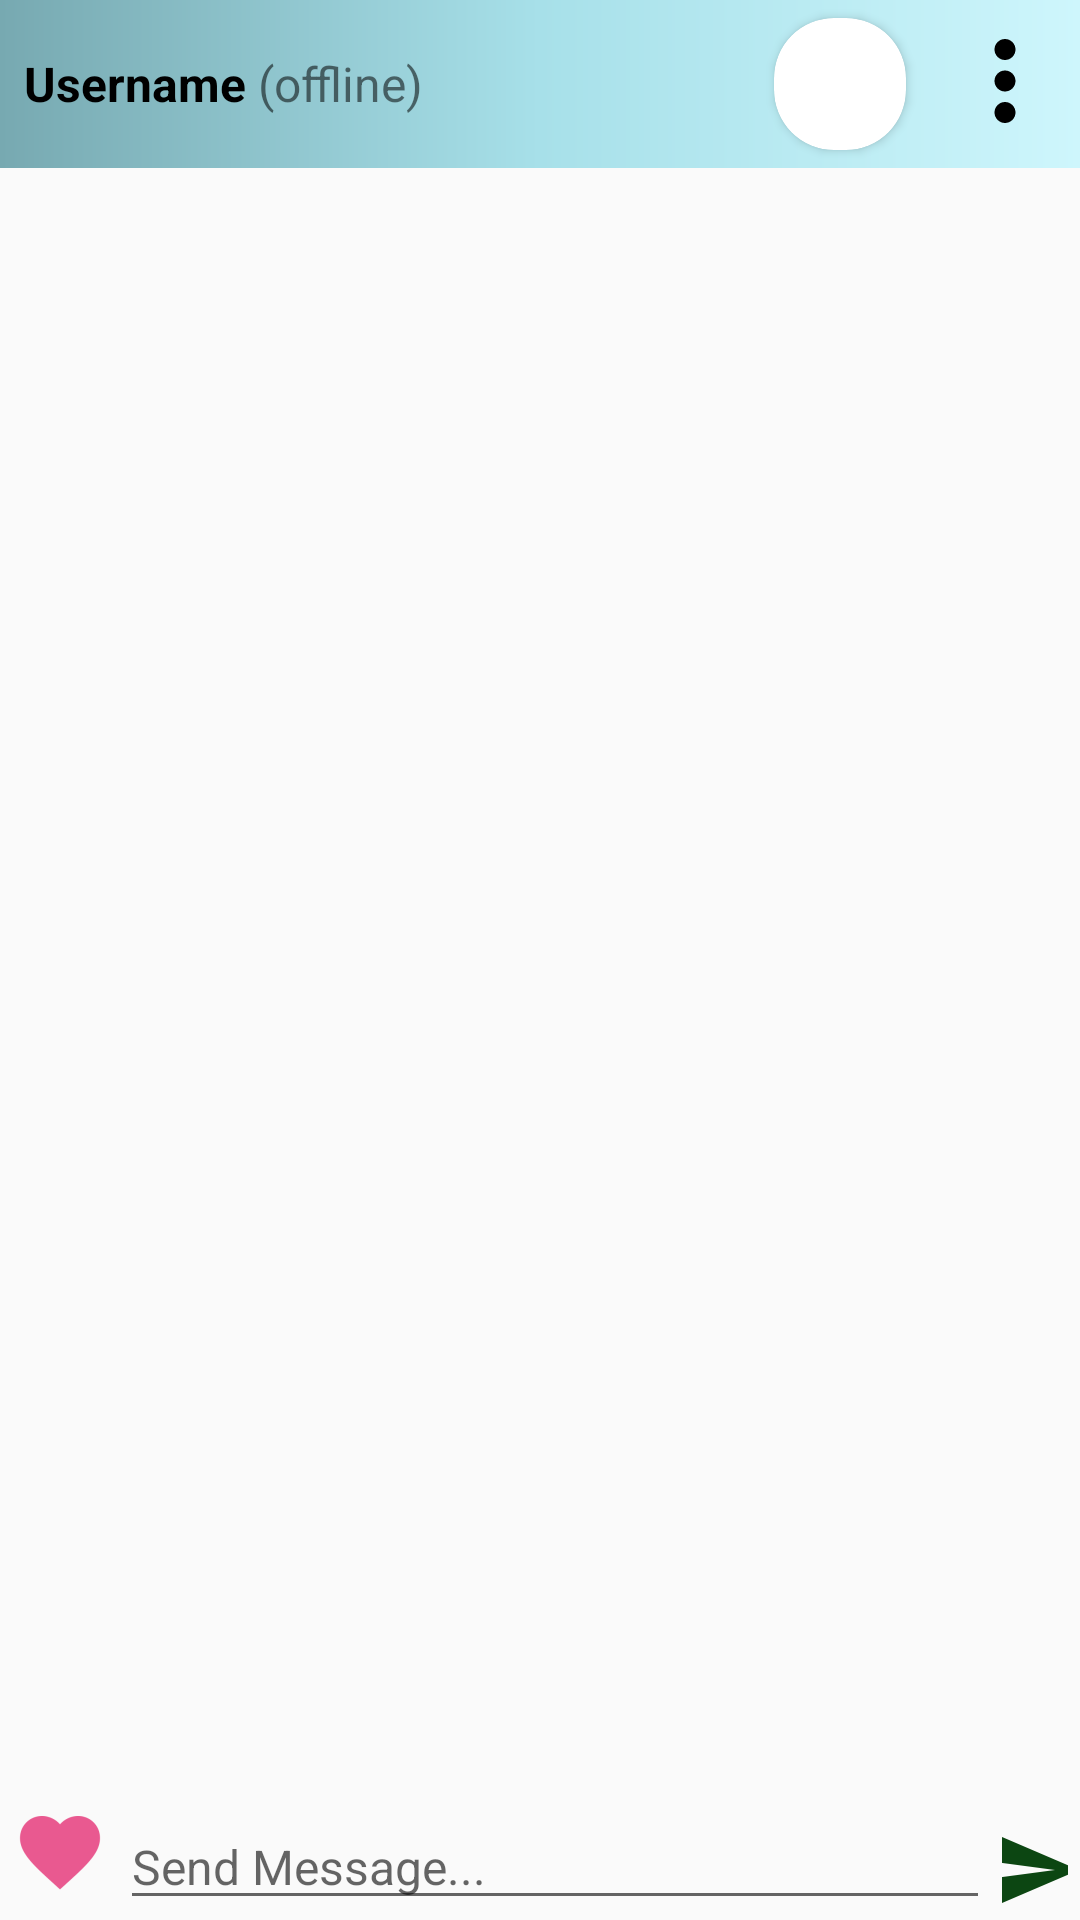

Icons on this 1080w x 1920h Android screen, each with the point to tap as point (x, y):
popup setting: point (1005, 81)
send chat: point (1035, 1870)
